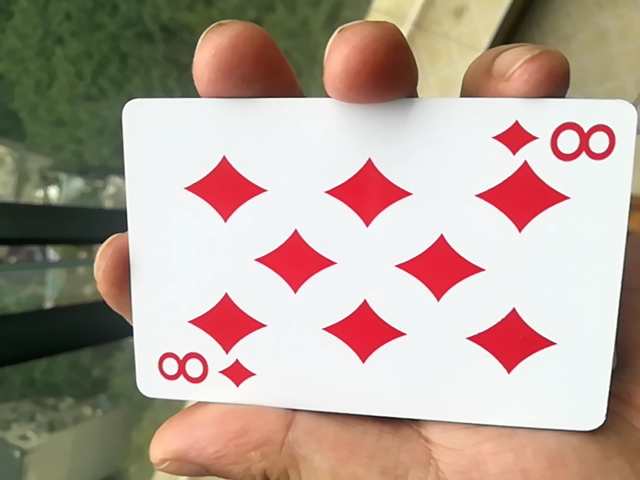fk 8: (108, 110, 636, 441)
